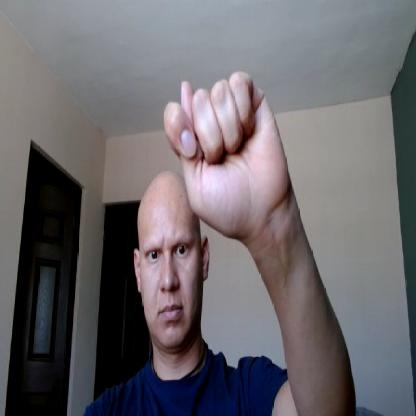T: (161, 70, 285, 238)
